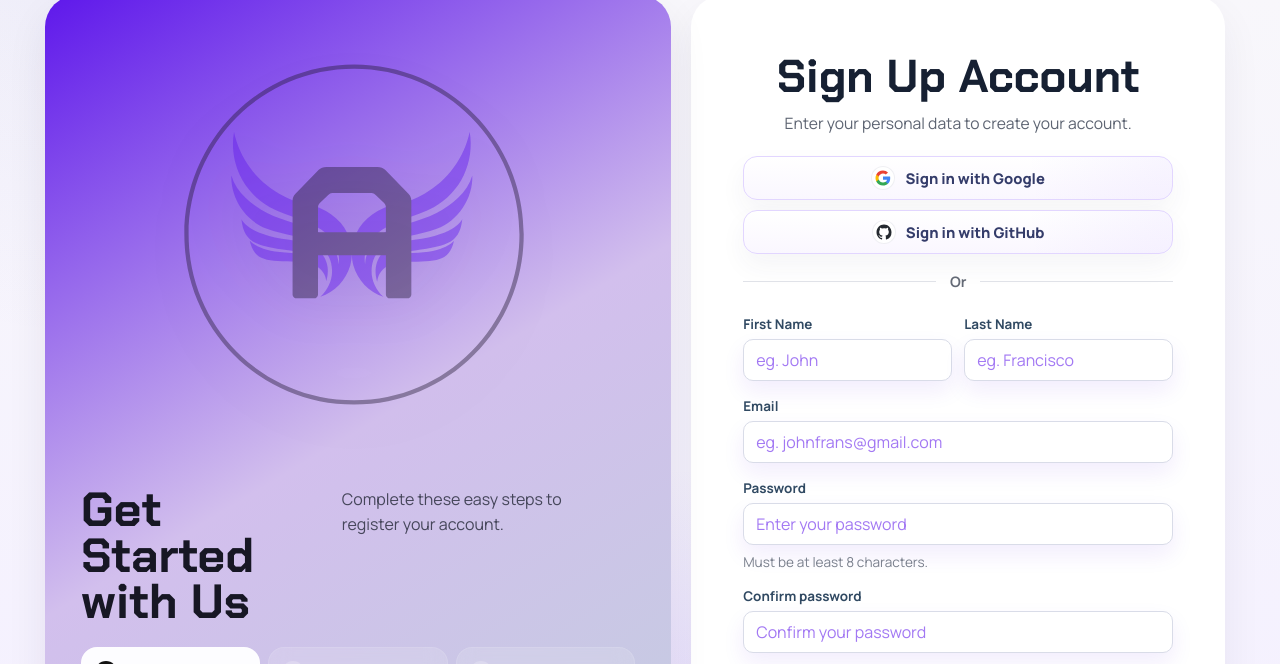
Scenario: RegisterPage › shows validation error when passwords do not match
Type "New" into the field labelled "First Name" at (848, 360), box [743,339,952,381]
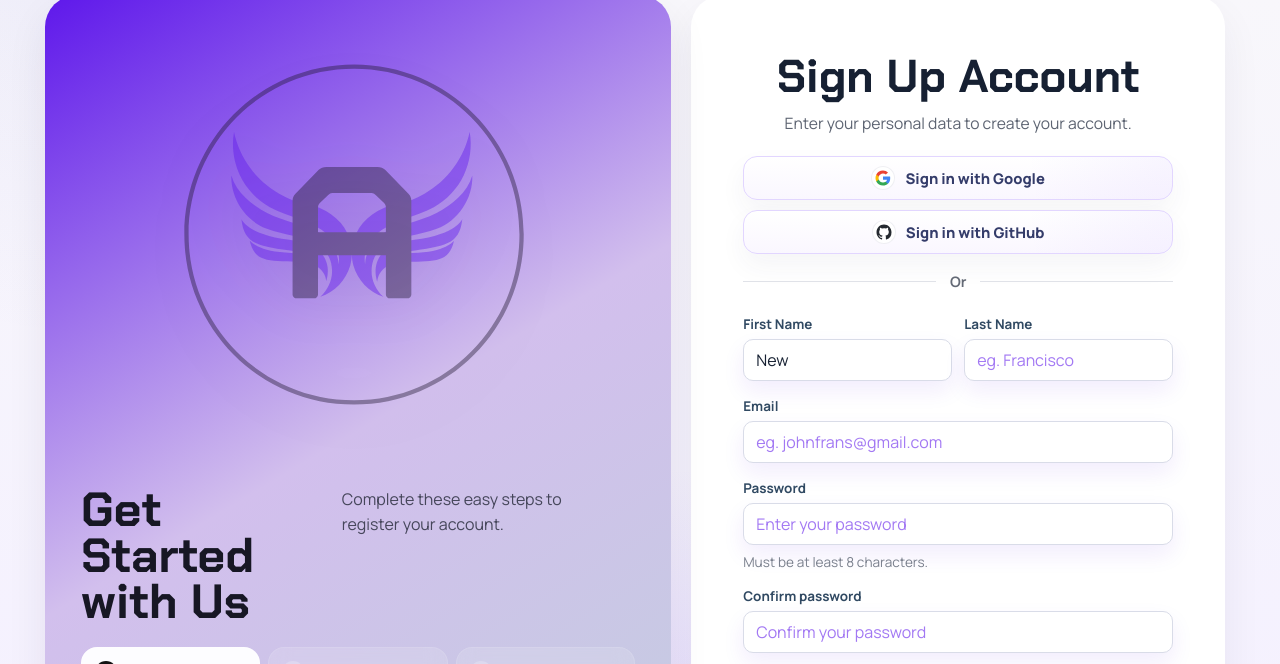
Type "User" into the field labelled "Last Name" at (1069, 360), box [964,339,1173,381]
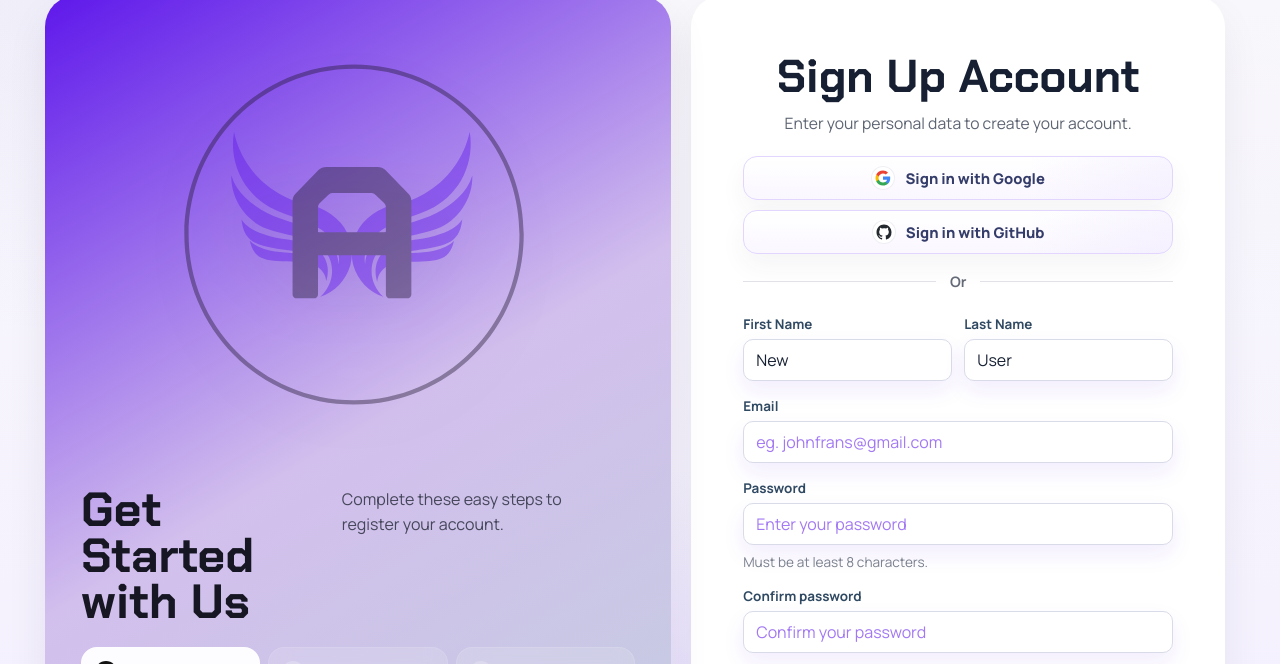
Type "new@example.com" into the field labelled "Email" at (958, 442), box [743,421,1173,463]
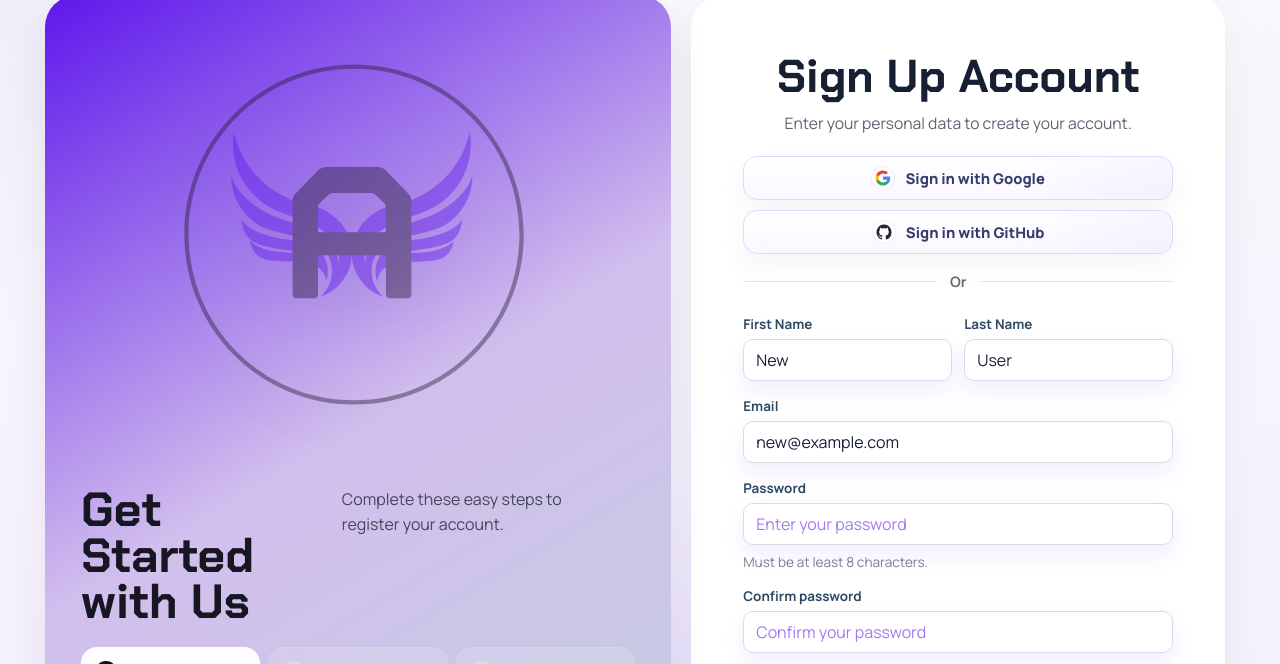
Type "strongpass123" into the password field labelled "Password" at (958, 524), box [743,503,1173,545]
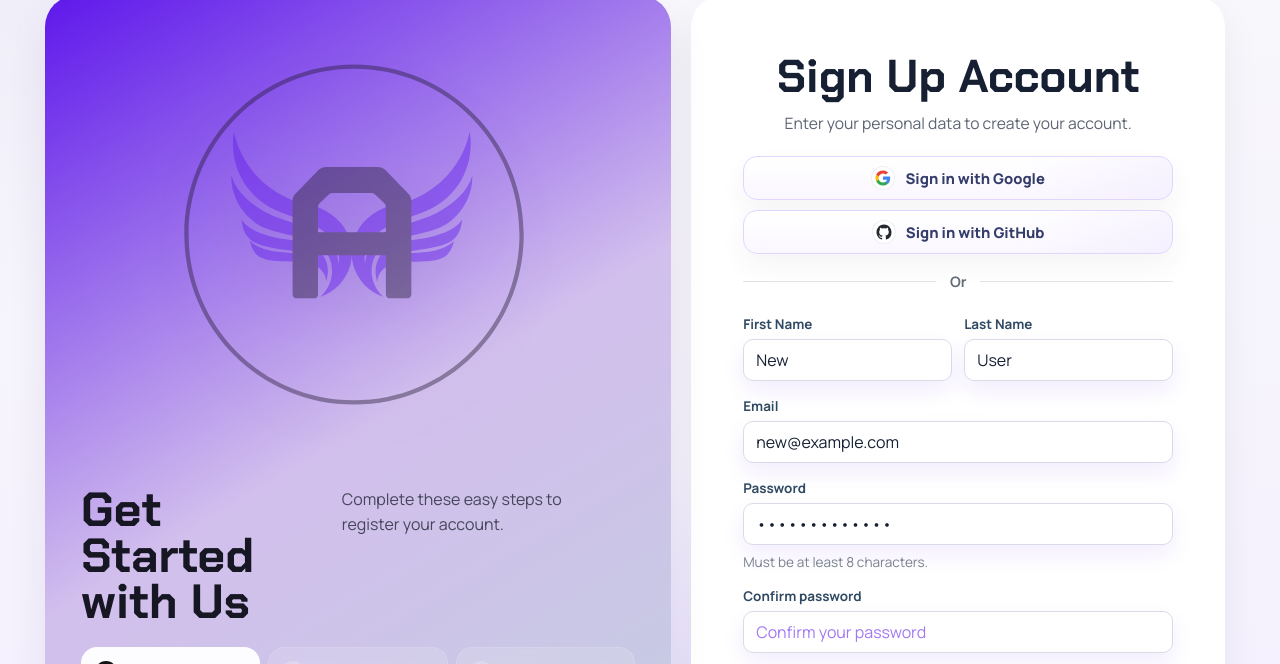
Type "differentpass123" into the password field labelled "Confirm password" at (958, 632), box [743,611,1173,653]
(page scrolled)
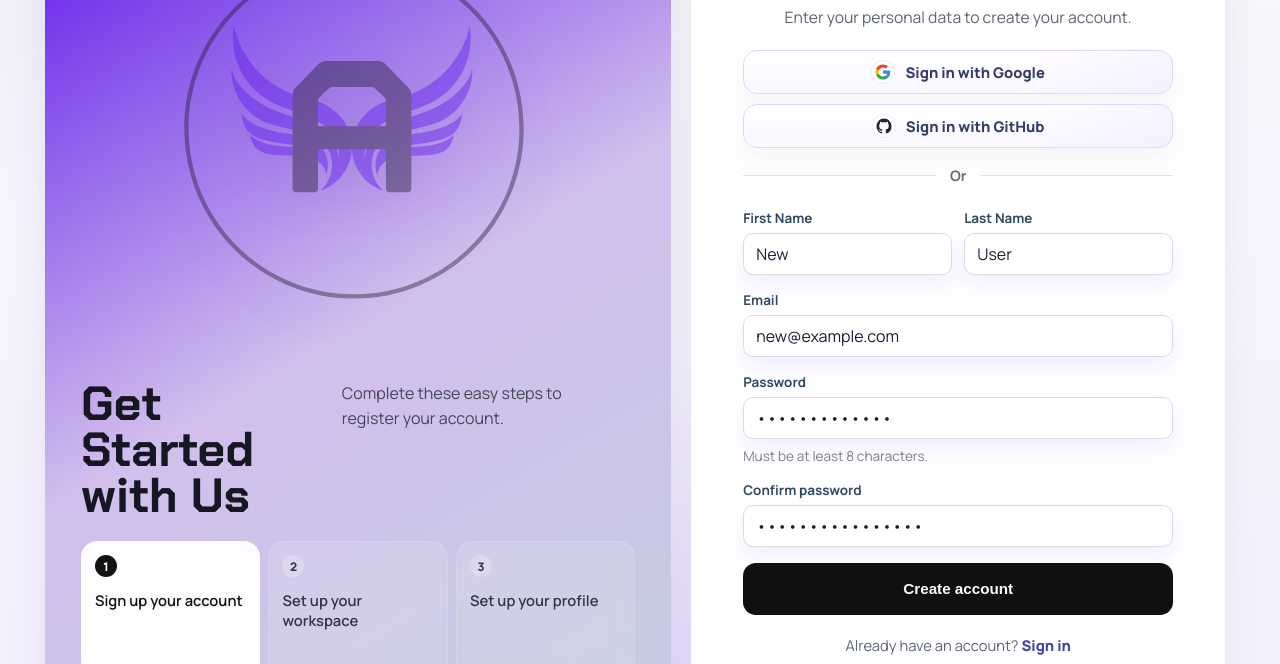
Click the button "Create account" at (958, 589), box [743,563,1173,615]
(page scrolled)
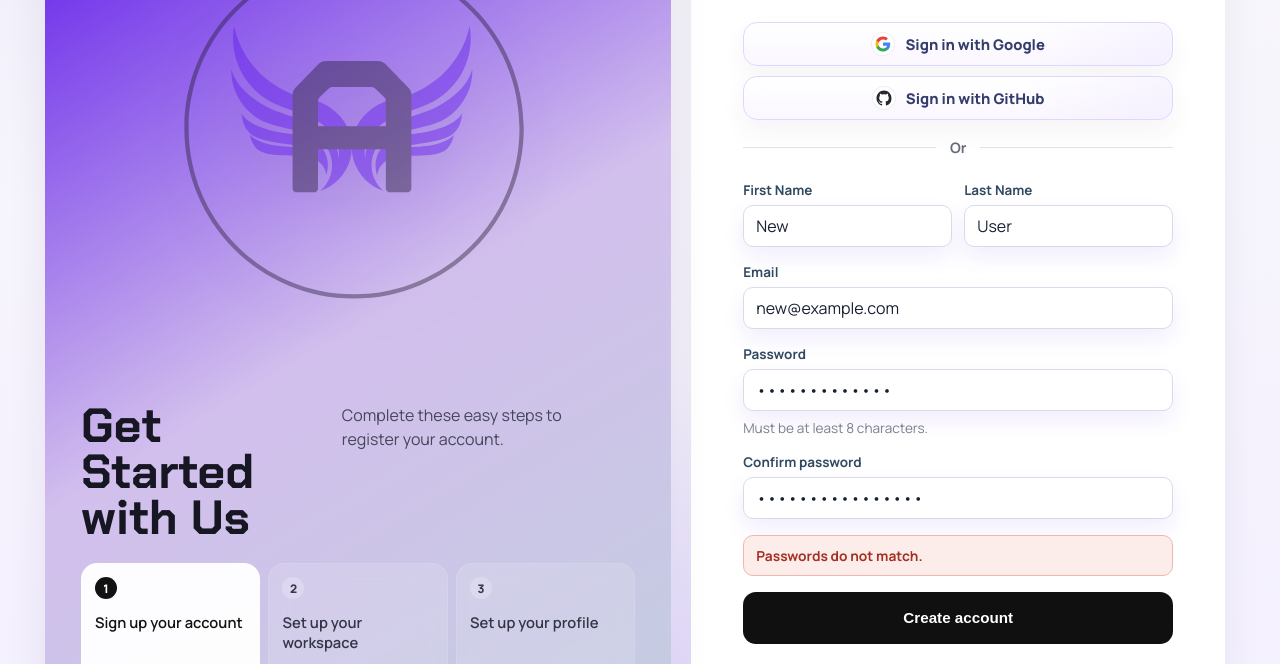
expect the text "Passwords do not match." is shown: met, box [743,535,1173,576]
